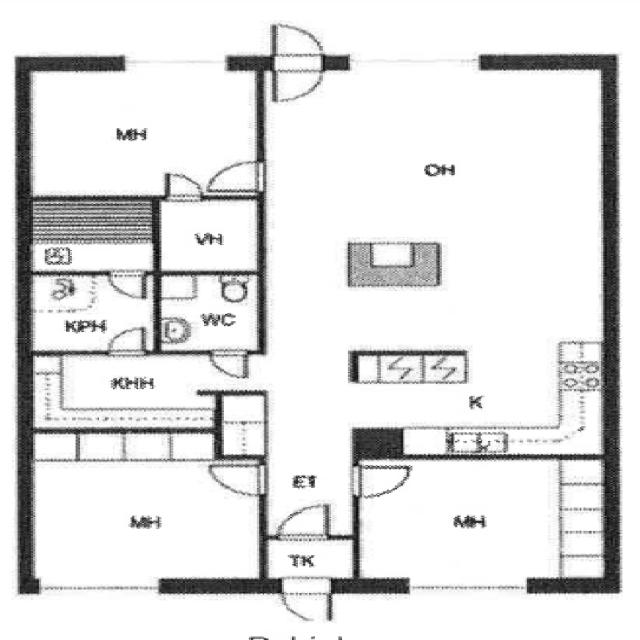door: (24, 270, 155, 354), (264, 22, 329, 106), (200, 458, 273, 500), (347, 457, 416, 501), (274, 577, 336, 625), (277, 498, 336, 541), (202, 158, 267, 195), (155, 167, 207, 202), (102, 324, 154, 356), (204, 349, 254, 382), (103, 268, 152, 301)
window: (341, 50, 490, 78), (113, 49, 241, 76)
zone: (263, 60, 618, 455), (23, 436, 262, 586), (23, 61, 264, 198), (356, 456, 608, 584), (22, 192, 157, 274), (25, 272, 157, 353), (156, 271, 264, 354), (153, 195, 266, 274)
